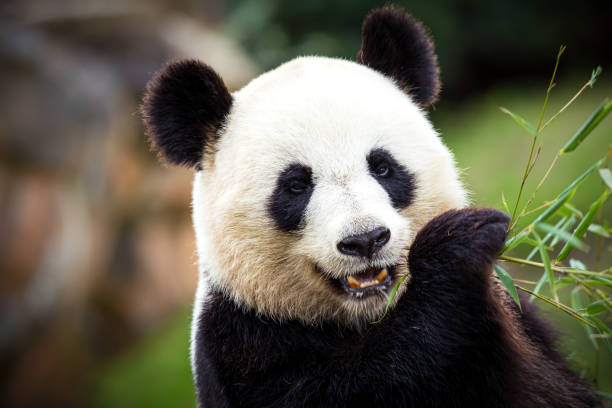panda: (116, 3, 506, 335)
